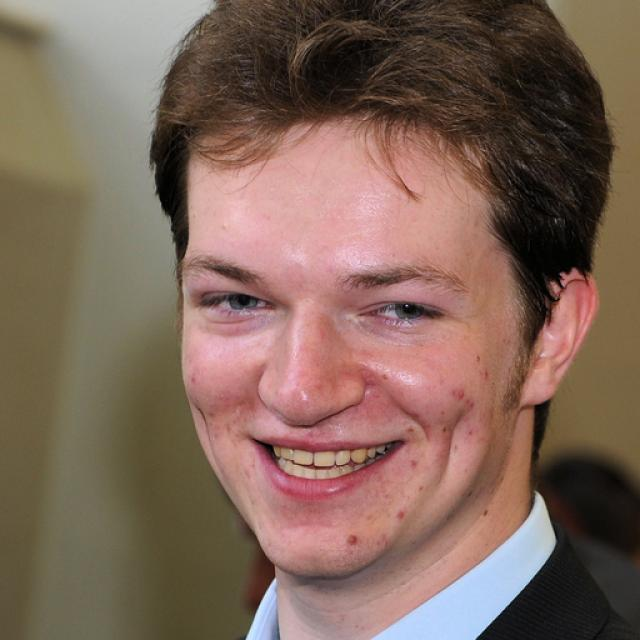Acne: (338, 526, 371, 552), (449, 383, 472, 405), (357, 366, 378, 389), (387, 507, 411, 524), (376, 368, 393, 383)
